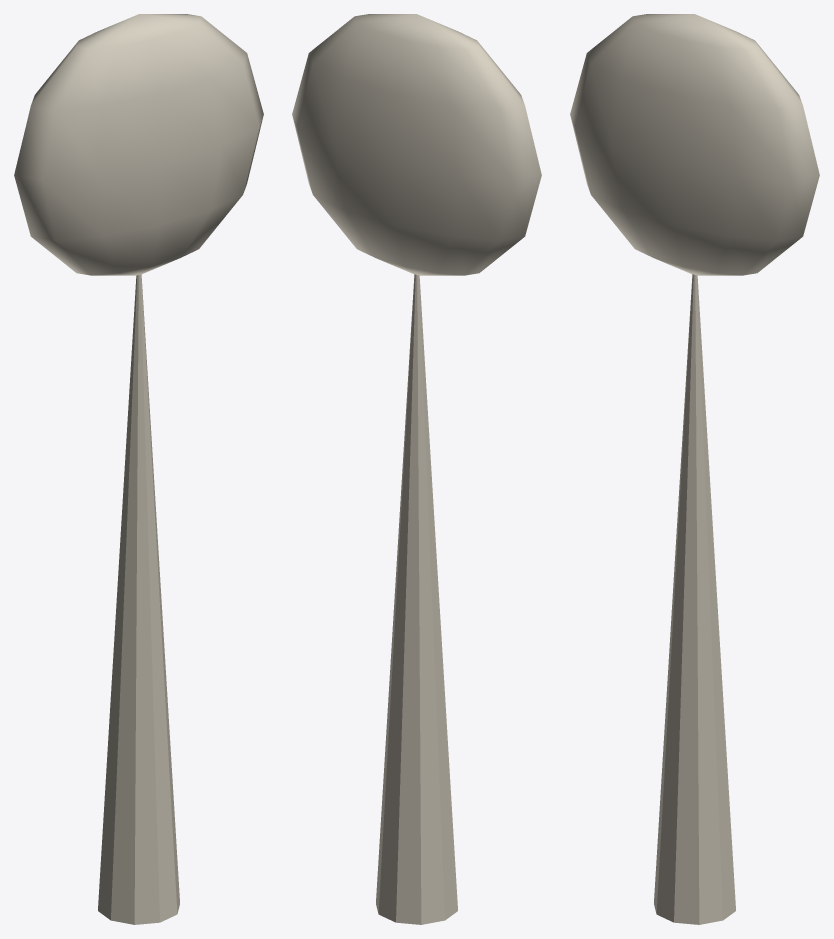
File: teeth.glb
3 renders of one model, left to right at view 1: azimuth 30°, elevation 25°; view 2: azimuth 150°, elevation 25°; view 3: azimuth 330°, elevation 25°, orthographic.
Parts seen in each view (by area): view 1: teeth; view 2: teeth; view 3: teeth.
Boxes of the visible parts, x1,y1,x2,y2 form: teeth: (14,14,263,924); teeth: (292,14,541,924); teeth: (570,14,819,924).
Size of the model in its own units: 0.108 by 0.369 by 0.036.
